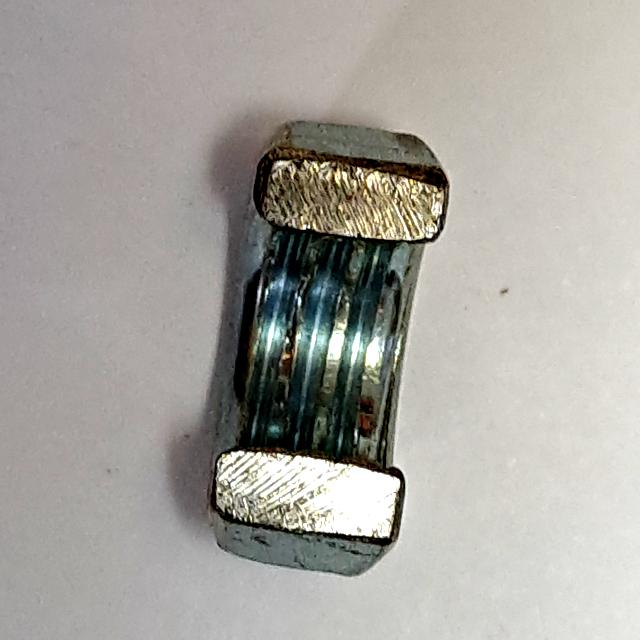Side-Fracture: (190, 113, 464, 585)
